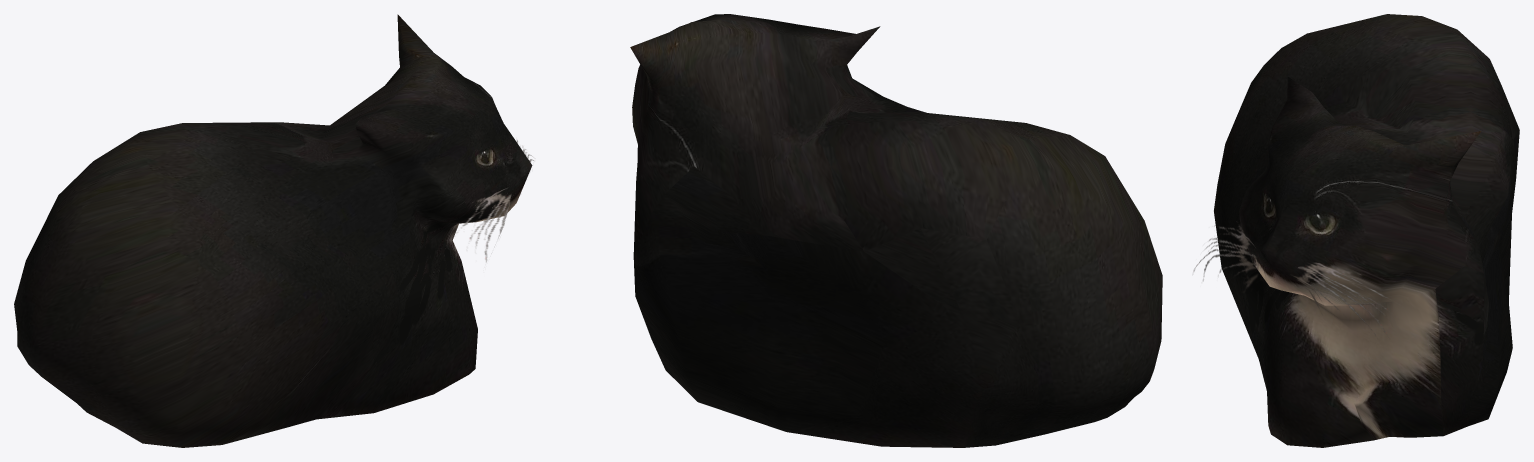
The model's file is dingus.glb.
The picture shows the model from 3 angles, left to right: view 1: azimuth 30°, elevation 25°; view 2: azimuth 150°, elevation 25°; view 3: azimuth 270°, elevation 25°; orthographic projection. The views are drawn at different scales.
Parts seen in each view (by area): view 1: Maxwell, whiskers; view 2: Maxwell; view 3: Maxwell, whiskers.
Boxes of the visible parts, box(x1,y1,x2,y2) form: Maxwell: box(14, 14, 532, 447); whiskers: box(456, 140, 533, 262); Maxwell: box(630, 14, 1162, 447); Maxwell: box(1214, 14, 1519, 447); whiskers: box(1193, 221, 1399, 335).
Size of the model in its own units: 0.6637 by 0.3822 by 0.3367.
Materials: 2 (2 with a texture image).
